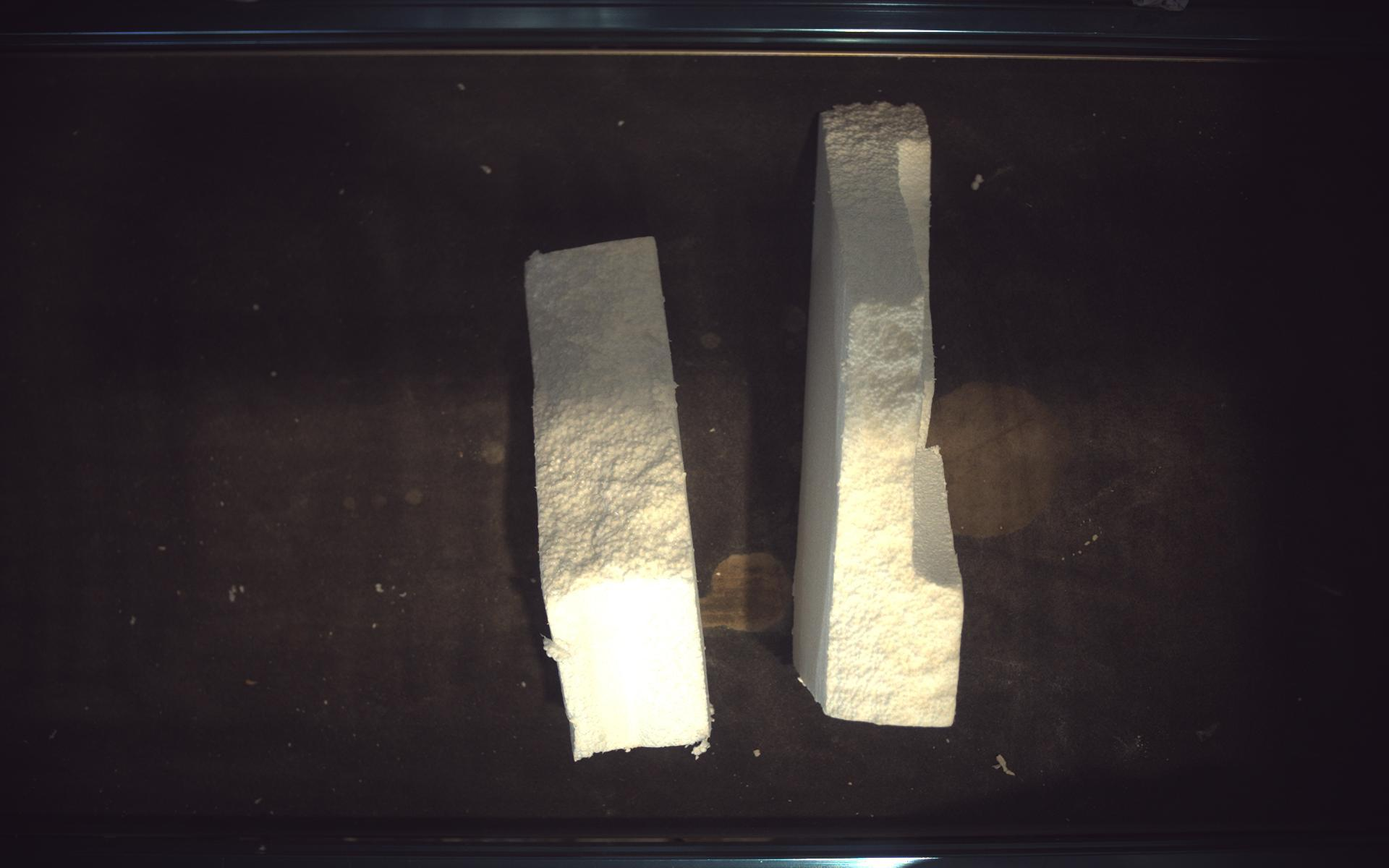foam: (795, 101, 966, 728), (526, 237, 711, 761)
